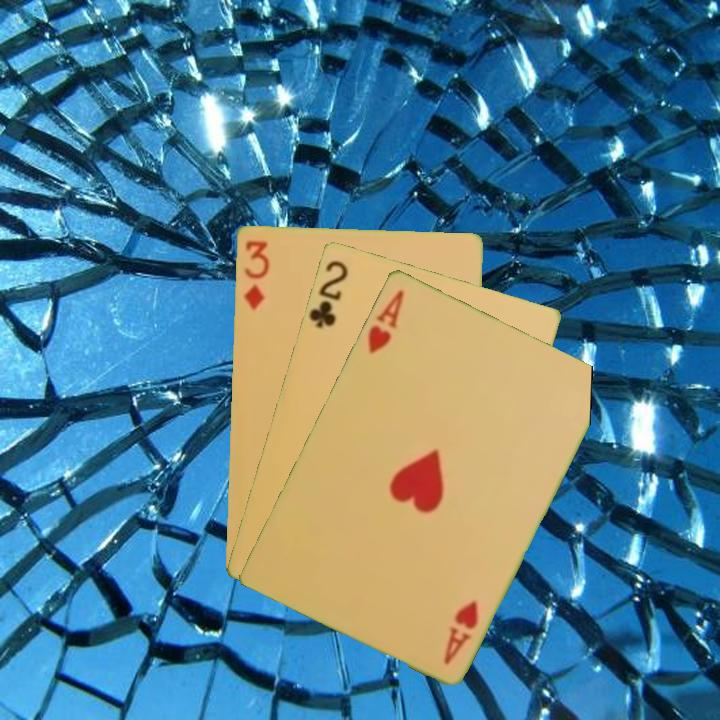2c: (305, 256, 351, 330)
3d: (239, 237, 272, 312)
Ah: (364, 286, 407, 357), (440, 596, 481, 667)
